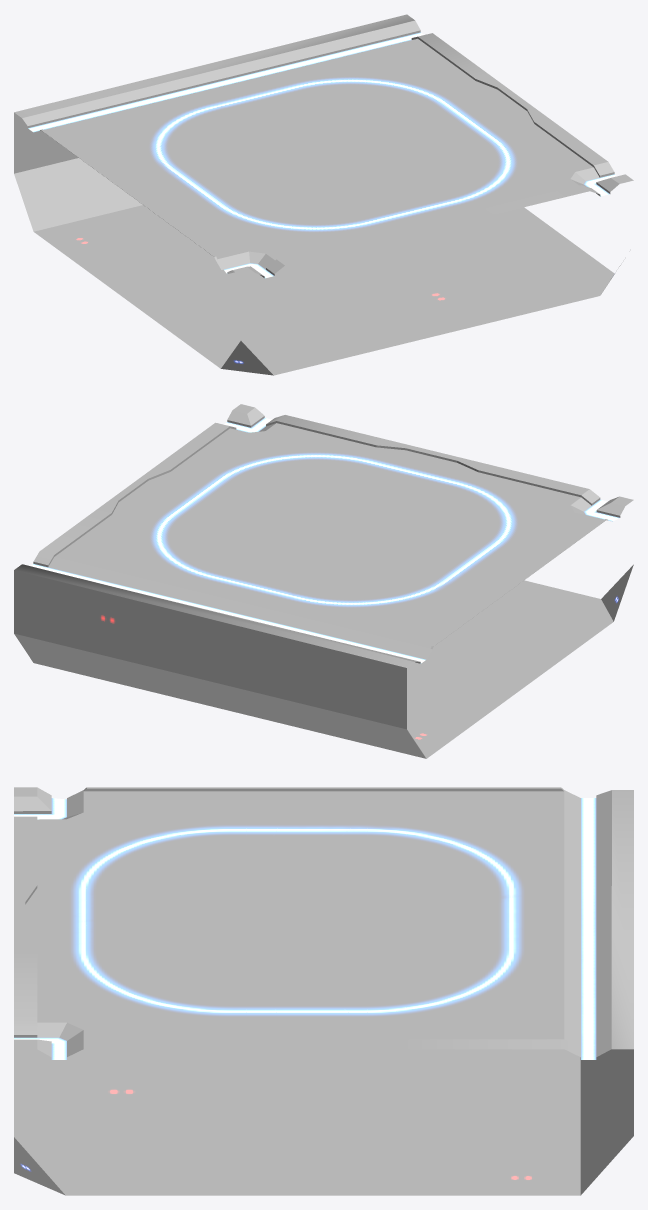
The model's file is 3Way_NoCaps.fbx.
The picture shows the model from 3 angles, top to bottom: view 1: azimuth 30°, elevation 25°; view 2: azimuth 150°, elevation 25°; view 3: azimuth 270°, elevation 25°; orthographic projection. The views are drawn at different scales.
Visible parts, largest first — view 1: 3Way_NoCaps; view 2: 3Way_NoCaps; view 3: 3Way_NoCaps.
Boxes of the visible parts, x1=… form: 3Way_NoCaps: x1=14, y1=14, x2=633, y2=375; 3Way_NoCaps: x1=14, y1=404, x2=633, y2=758; 3Way_NoCaps: x1=14, y1=787, x2=633, y2=1195.
Size of the model in its own units: 2.5 by 0.6517 by 2.5.
